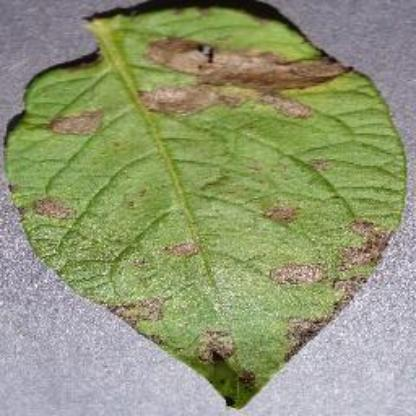Early-Blight: (7, 0, 415, 410)
